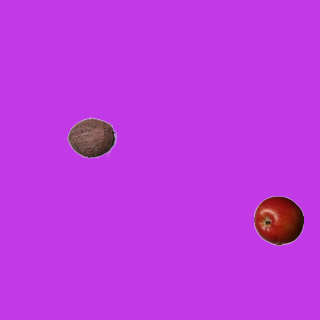Apple Braeburn: (253, 195, 303, 245)
Cocos: (66, 112, 116, 162)
